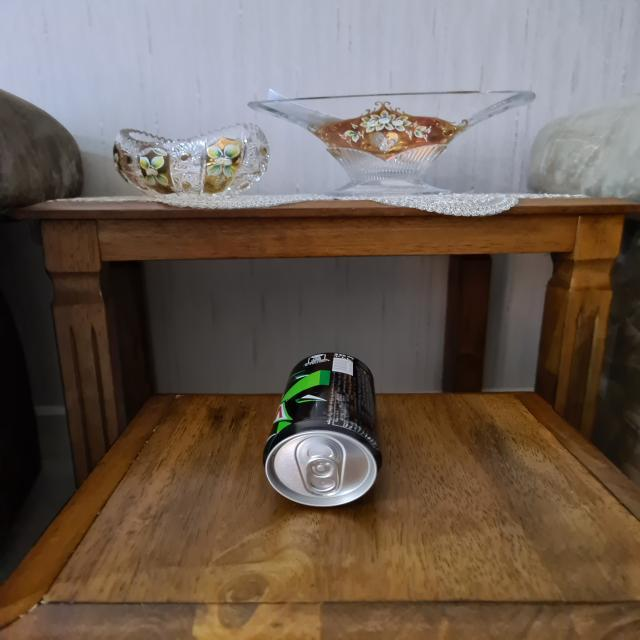can: (260, 350, 388, 510)
